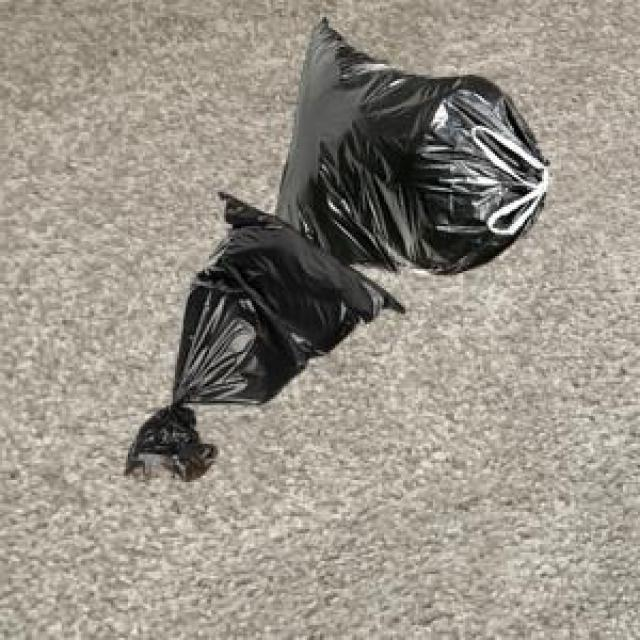Trashbag: (328, 70, 569, 282), (175, 192, 382, 414)
